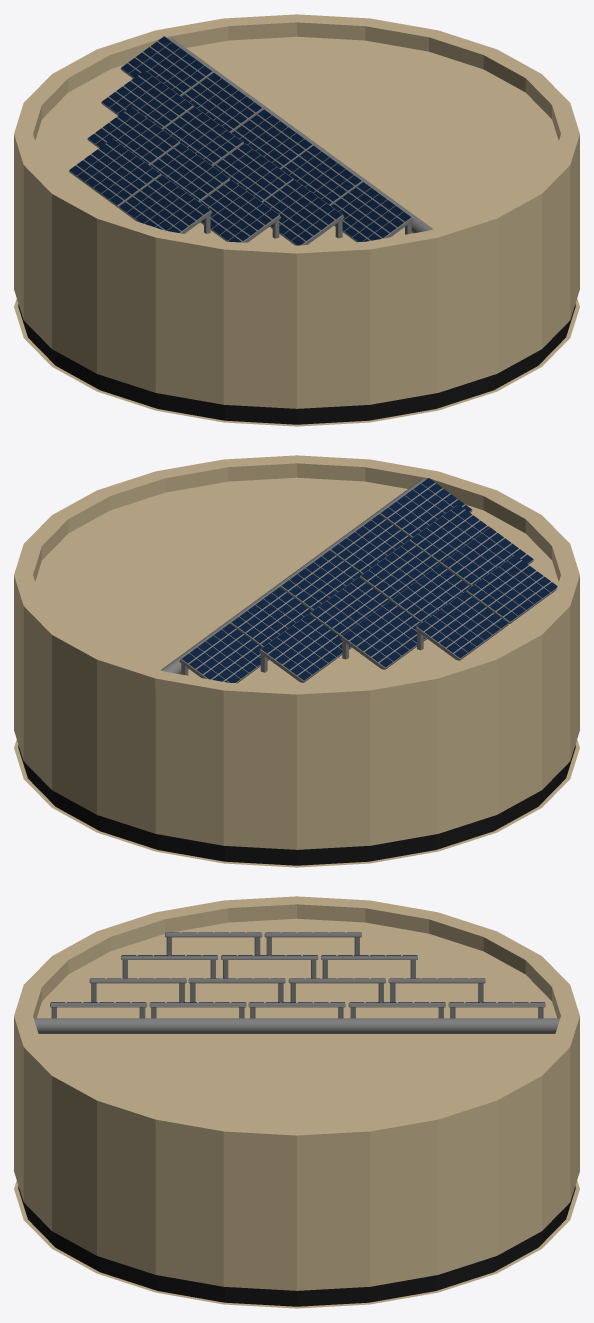
Rendered from SolarPanel_Building.fbx.
The picture shows the model from 3 angles, top to bottom: view 1: azimuth 30°, elevation 25°; view 2: azimuth 150°, elevation 25°; view 3: azimuth 270°, elevation 25°; orthographic projection.
Parts seen in each view (by area): view 1: Cylinder.001; view 2: Cylinder.001; view 3: Cylinder.001.
Boxes of the visible parts, x1,y1,x2,y2 form: Cylinder.001: (14, 14, 579, 426); Cylinder.001: (14, 455, 579, 867); Cylinder.001: (14, 896, 579, 1308).
Bounding box in the file's own units: 430 × 153 × 430.
